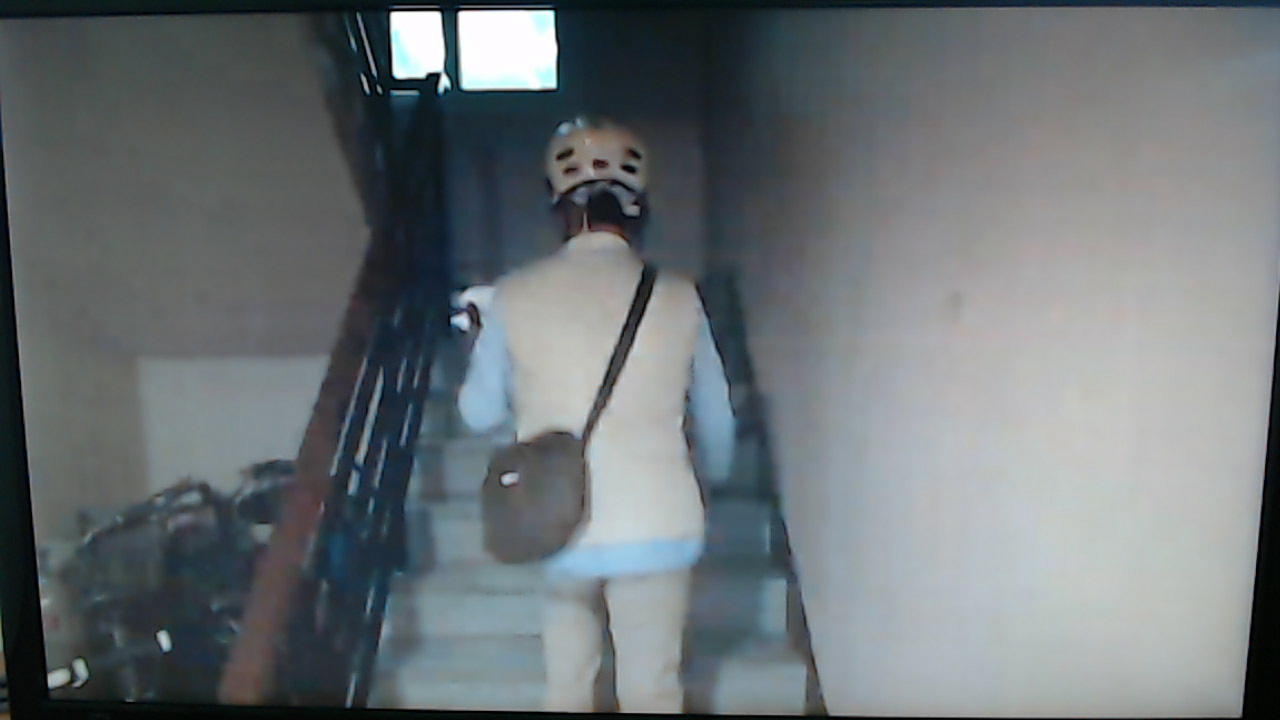Yakurut: (434, 106, 763, 720)
